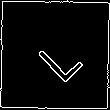L_NW: (26, 26, 84, 84)
